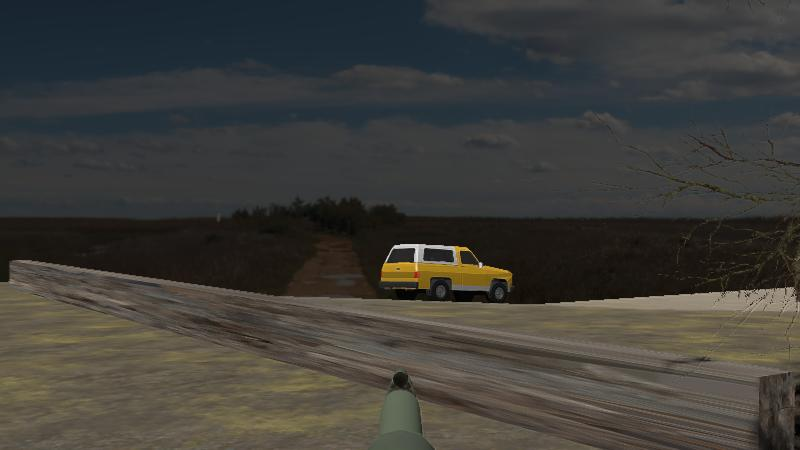Tank: (755, 301, 800, 448)
car: (380, 242, 514, 304)
